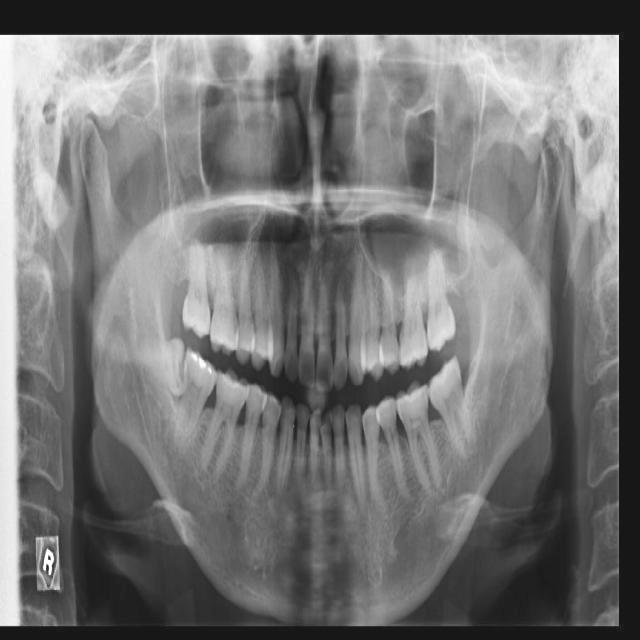Filling: (188, 352, 215, 375)
impacted tooth: (135, 340, 182, 394)
